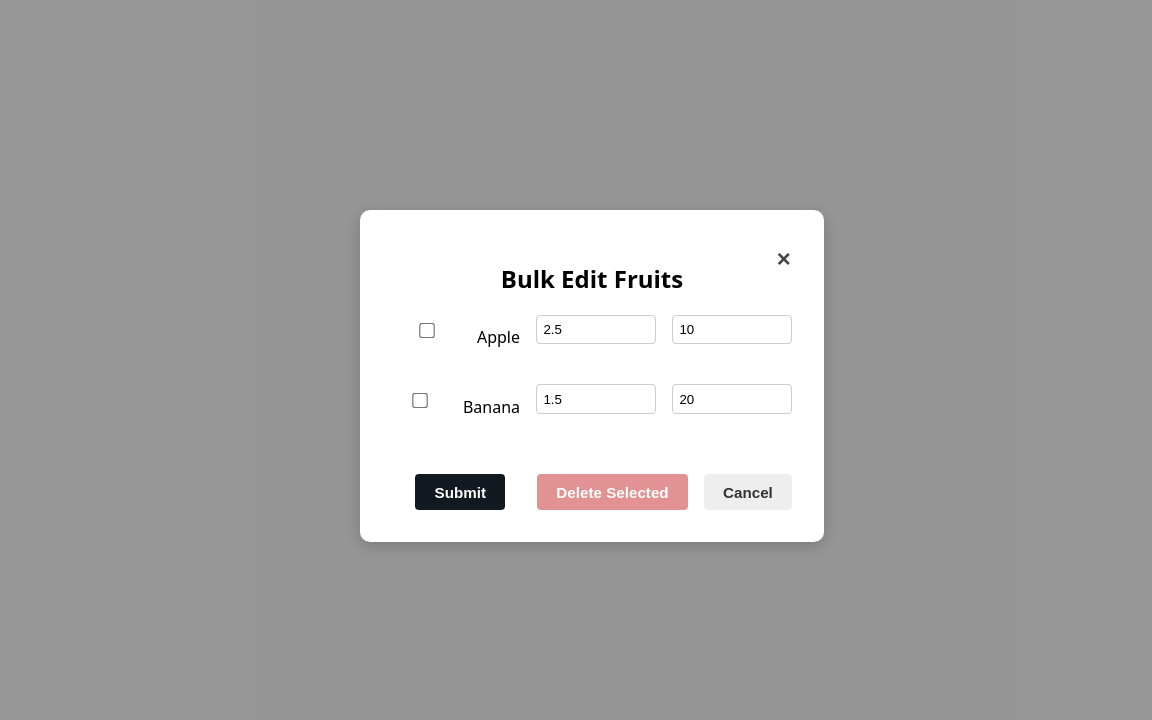
Scenario: BulkEditModal › enables delete button when checkbox is clicked
This screenshot has width=1152, height=720.
Expected: the button "Delete Selected" is disabled, [537,474,688,510]
Click the checkbox next to "Apple" at (427, 331), box [390,323,464,339]
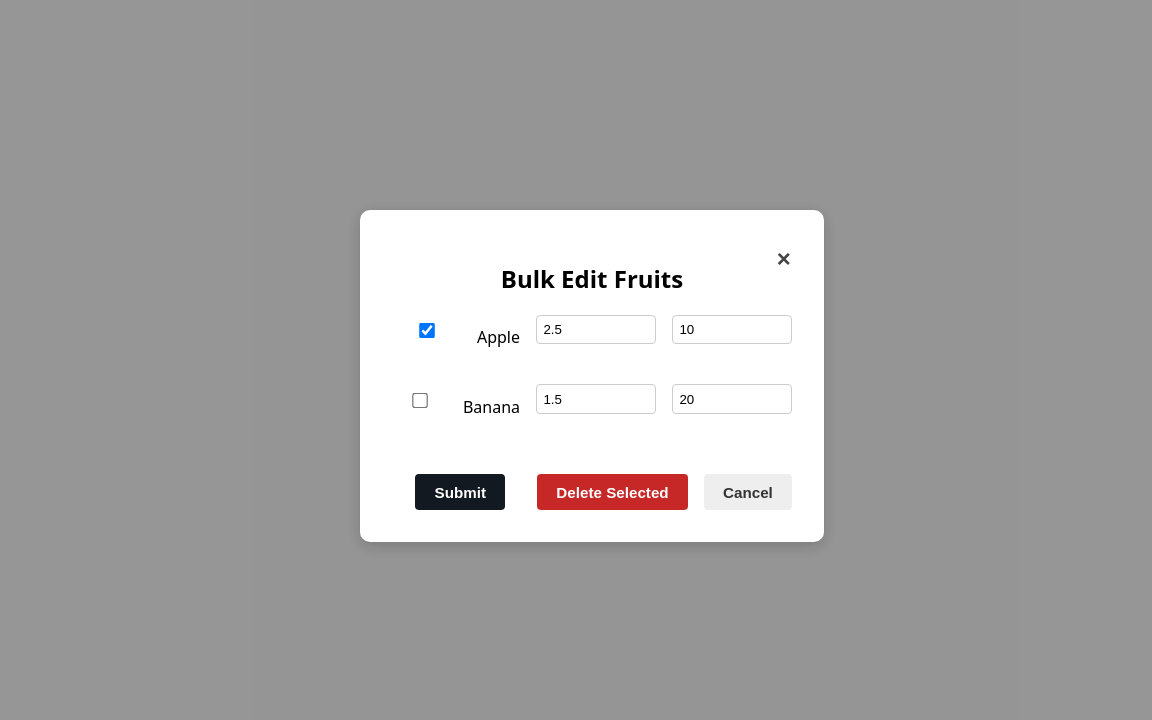
Expected: the button "Delete Selected" is enabled, [537,474,688,510]
